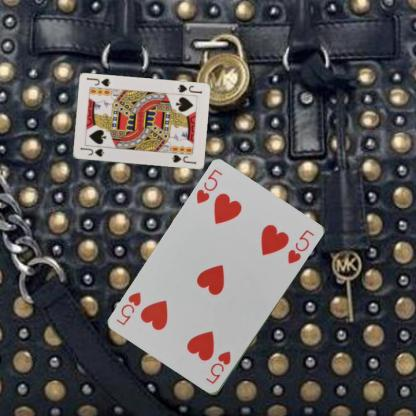5h: (194, 167, 224, 206), (203, 349, 232, 386)
Js: (78, 144, 105, 158), (174, 82, 203, 95)
